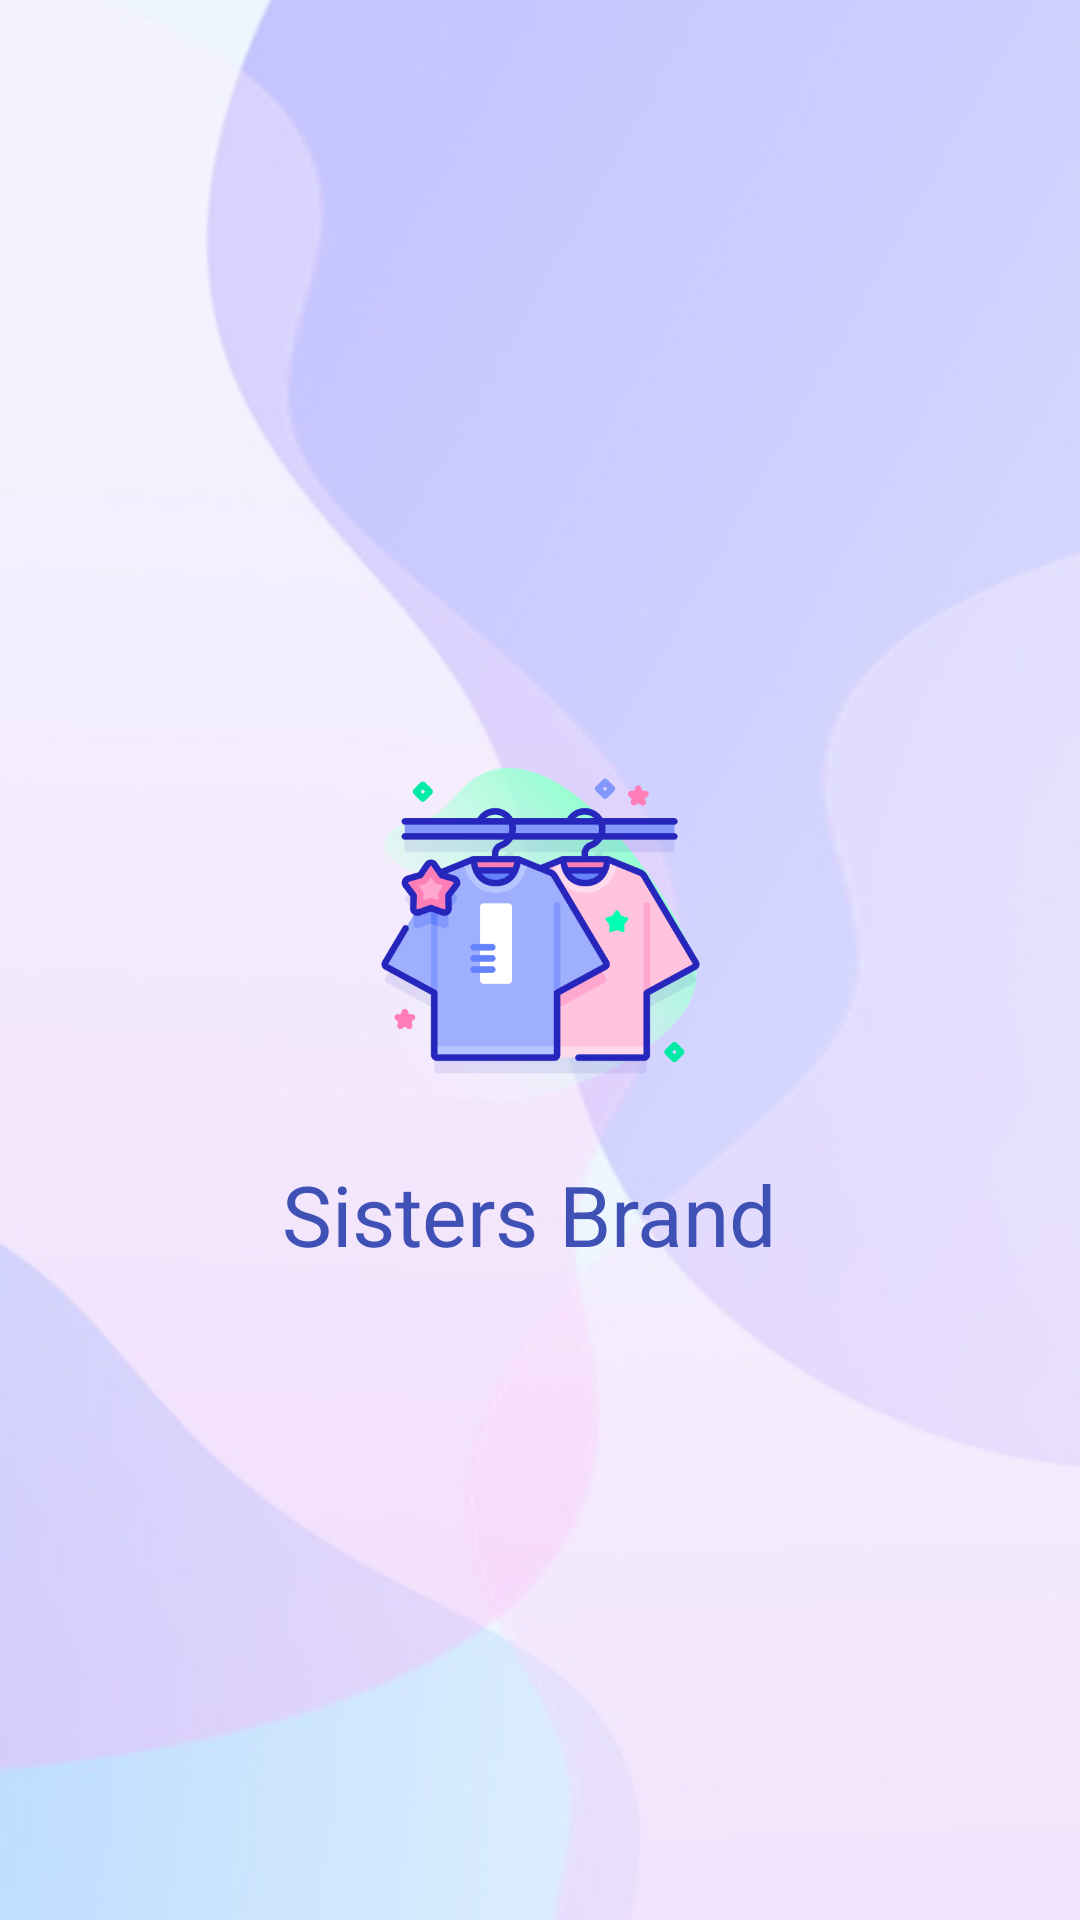

Screen size 1080×1920. Icon name, then its center in pixels as point (x, y):
loggo: point (540, 934)
